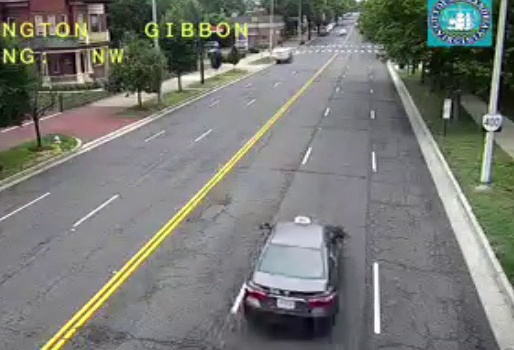car: (244, 218, 341, 321)
